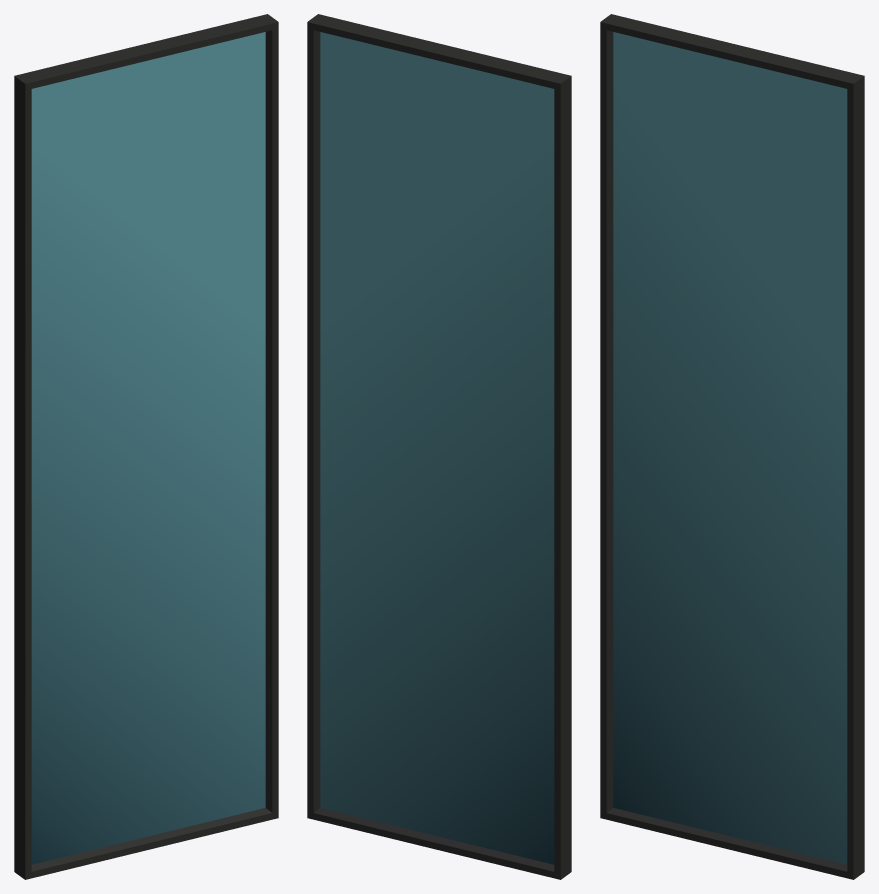
Rendered from giantWindowStraight.fbx.
The picture shows the model from 3 angles, left to right: view 1: azimuth 30°, elevation 25°; view 2: azimuth 150°, elevation 25°; view 3: azimuth 330°, elevation 25°; orthographic projection.
Parts seen in each view (by area): view 1: giantWindowStraight; view 2: giantWindowStraight; view 3: giantWindowStraight.
Part boxes in pixels (left/top/right/bottom): giantWindowStraight: left=14, top=14, right=278, bottom=879; giantWindowStraight: left=307, top=14, right=571, bottom=879; giantWindowStraight: left=600, top=14, right=864, bottom=879.
Bounding box in the file's own units: 400 × 1200 × 30.
Materials: 1 (1 with a texture image).
